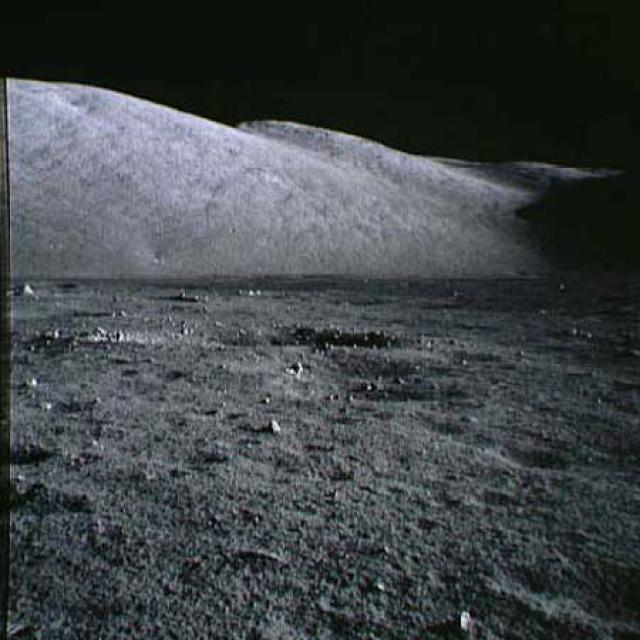crater: (363, 405, 572, 471), (57, 320, 408, 353), (336, 358, 419, 382), (444, 345, 505, 365)
rock: (198, 437, 232, 458)
